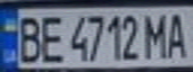1: (103, 11, 124, 61)
2: (121, 10, 142, 61)
4: (63, 11, 90, 62)
7: (84, 11, 106, 62)
A: (163, 8, 193, 60)
B: (12, 11, 45, 64)
E: (36, 11, 66, 63)
M: (142, 10, 172, 60)
